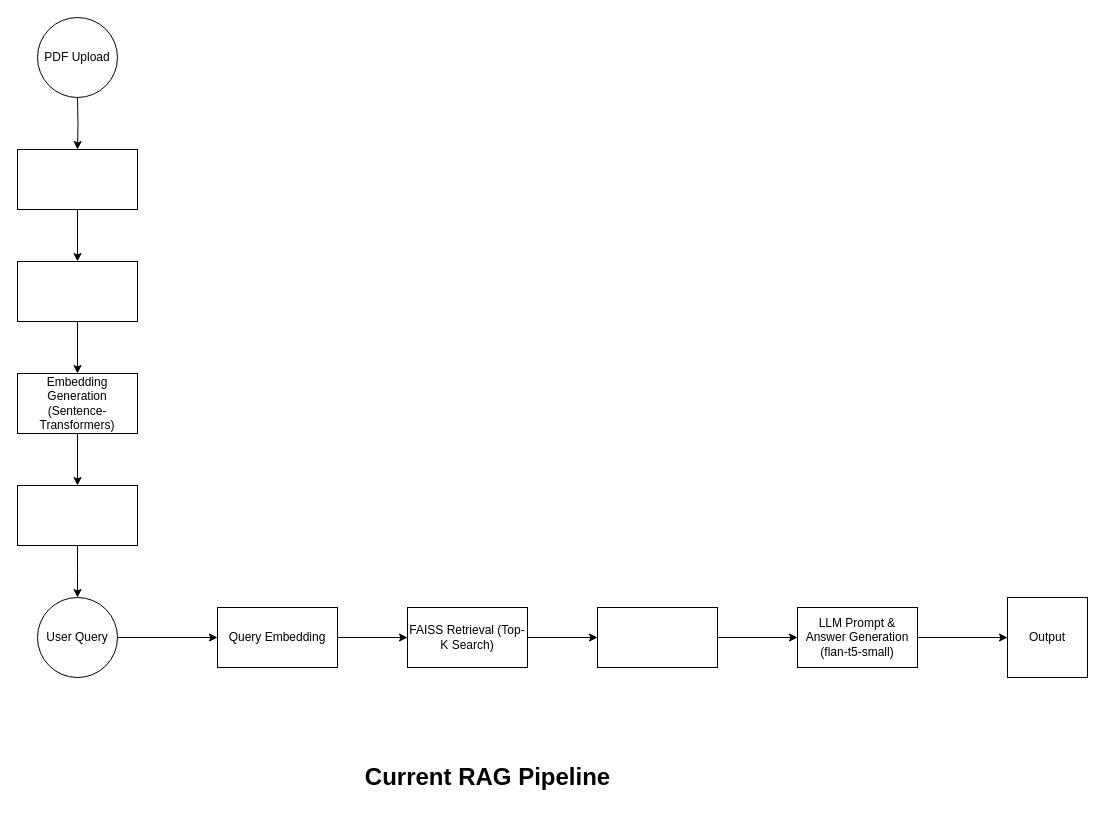
The diagram is 1105 pixels wide and 815 high, and some of its shapes have lost their labels. Here are the shapes that lost their labels. From the top down, the centre of each, then its label:
point (77, 179): Text Extraction with PyMuPDF
point (77, 291): Text Chunking
point (77, 515): FAISS Index Construction
point (657, 637): Context Construction
